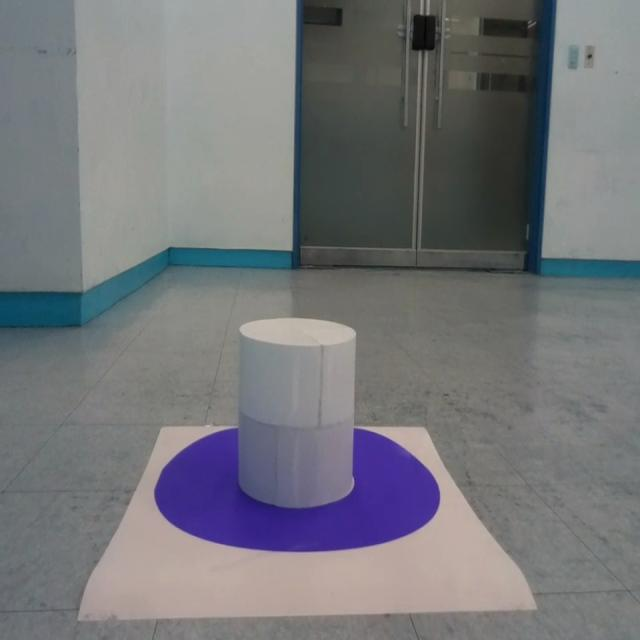cylinder: (237, 316, 358, 508)
